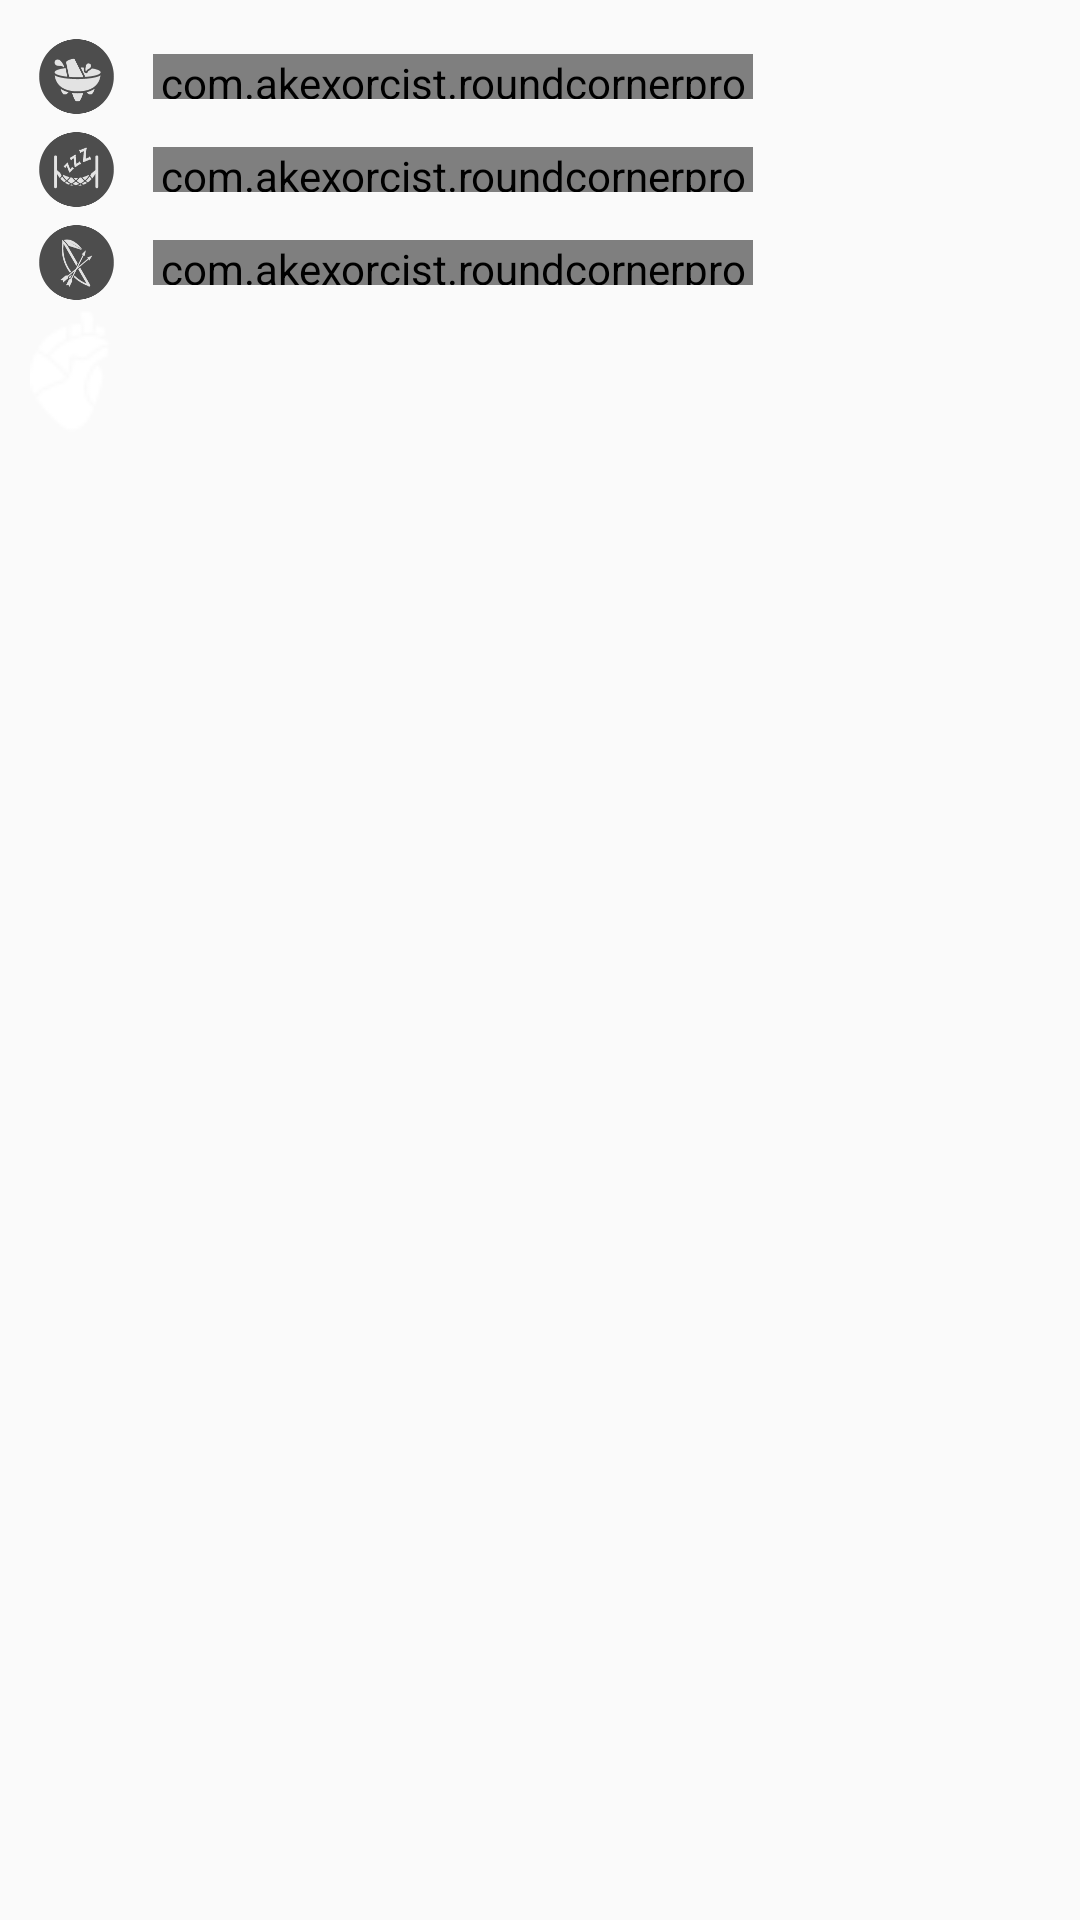

Icon click points for this 1080*1920 phone screenshot, format point (x, y):
feed: point (76, 76)
play: point (76, 262)
sleep: point (76, 169)
